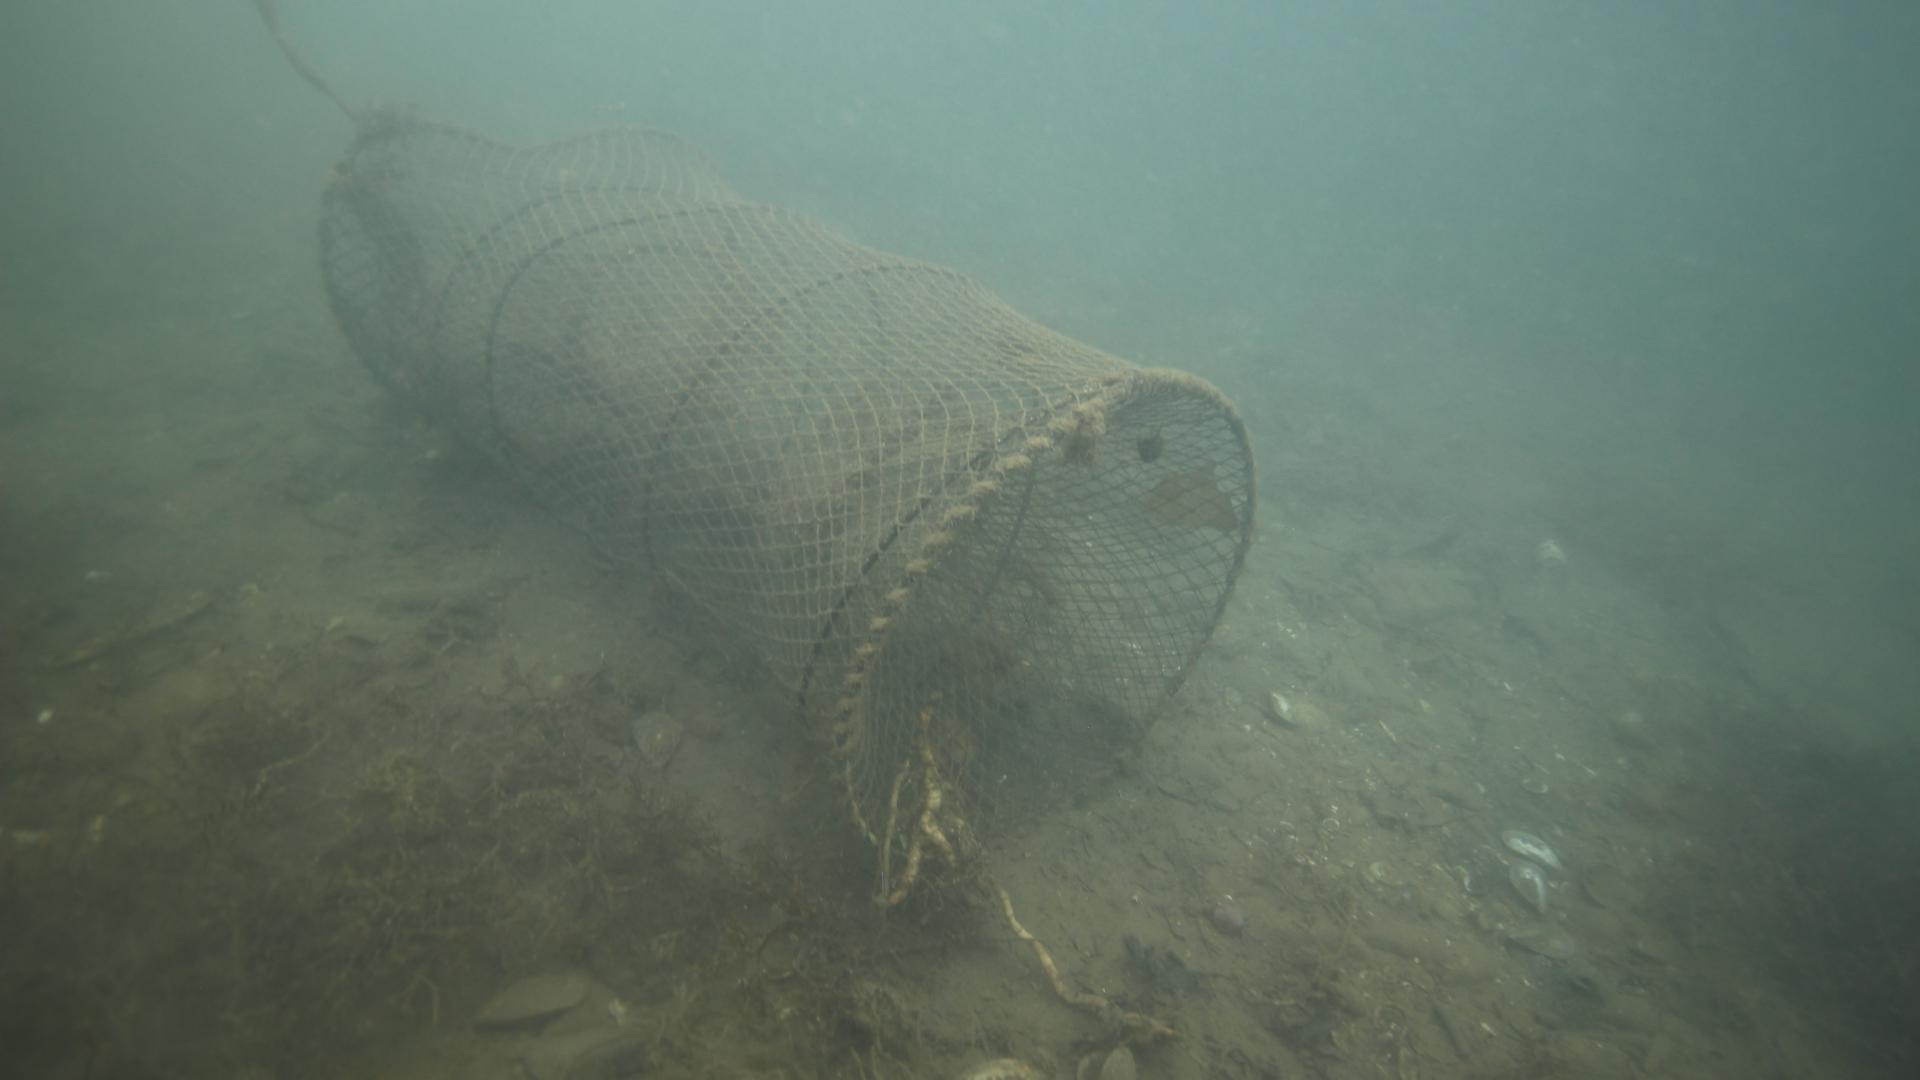spring fish trap: (316, 113, 1259, 865)
